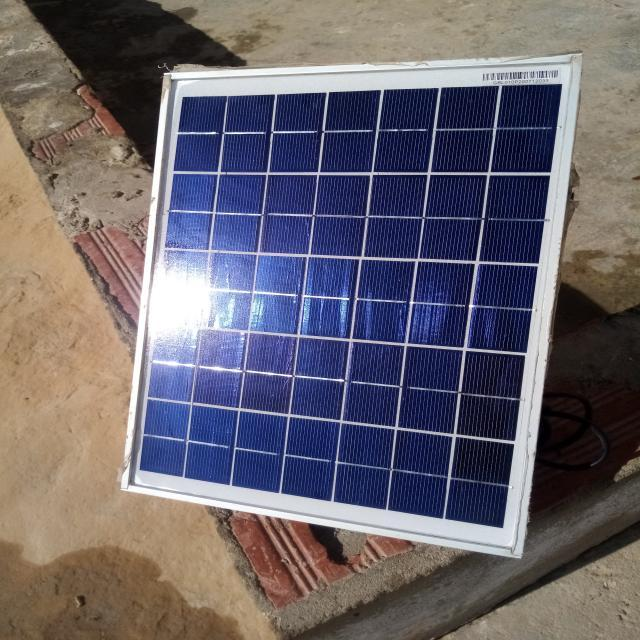no faulty: (123, 55, 581, 557)
